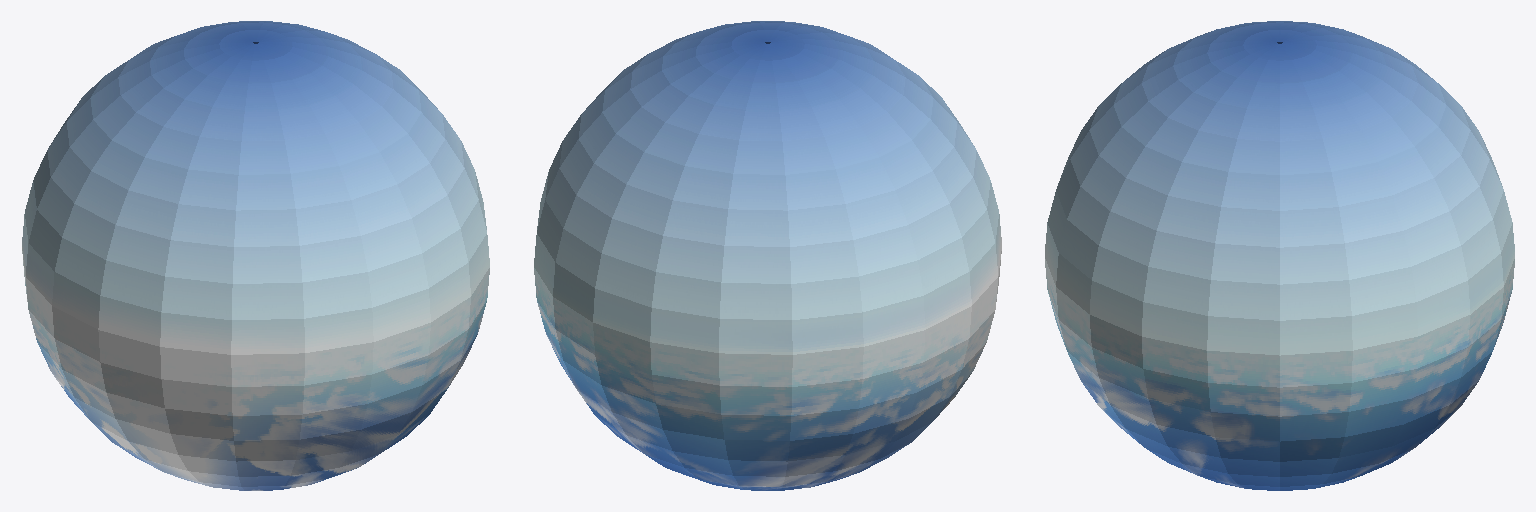
3 views of the same model, side by side, from view 1: azimuth 30°, elevation 25°; view 2: azimuth 150°, elevation 25°; view 3: azimuth 270°, elevation 25° (orthographic).
Parts seen in each view (by area): view 1: spacesphere; view 2: spacesphere; view 3: spacesphere.
Boxes of the visible parts, x1,y1,x2,y2 form: spacesphere: [22, 21, 489, 490]; spacesphere: [534, 21, 1001, 490]; spacesphere: [1045, 21, 1514, 490].
Bounding box in the file's own units: 411 × 411 × 411.
1 materials, 1 textured.